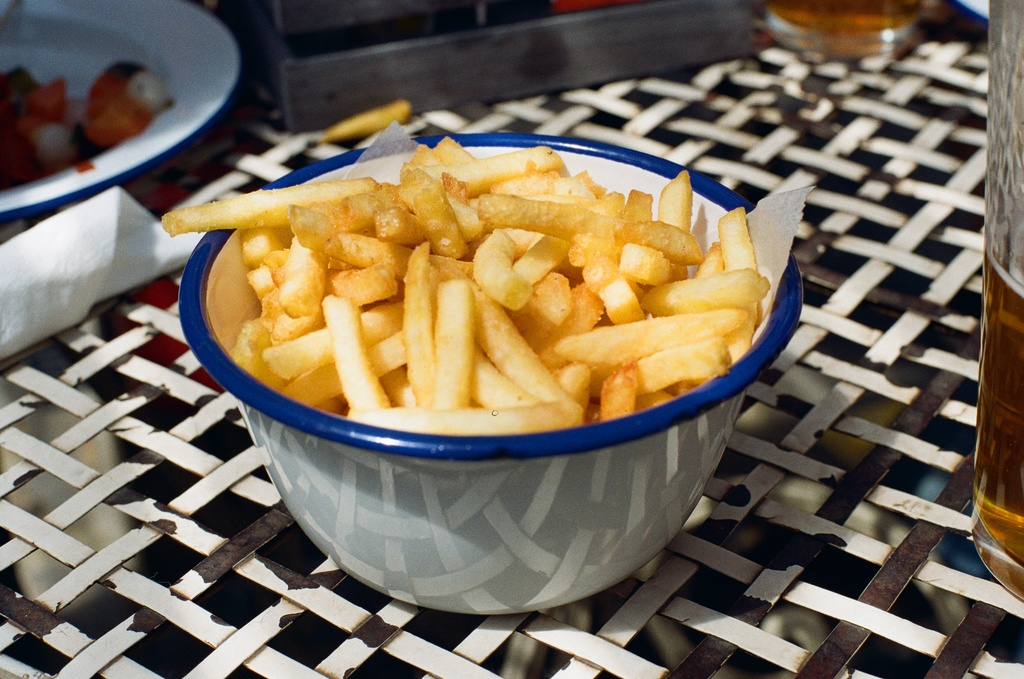French fries: (161, 135, 776, 433)
